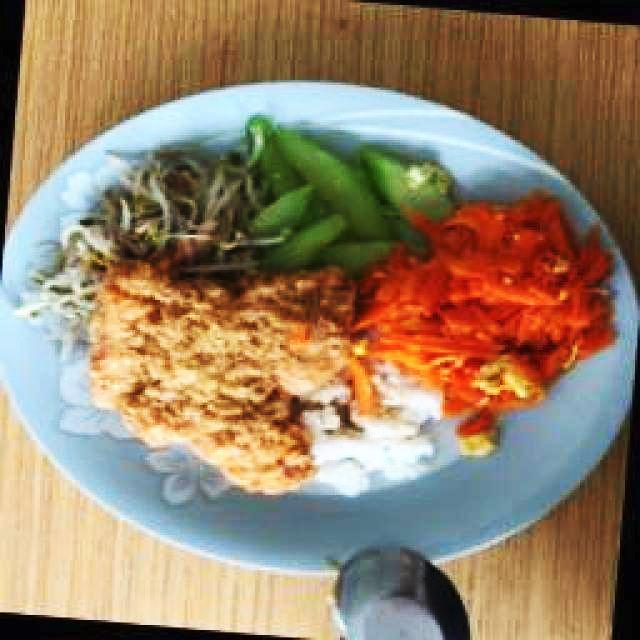carrot_eggs: (353, 194, 614, 451)
fried_chicken: (86, 250, 360, 493)
mung_bean_sprouts: (69, 162, 232, 263)
rice: (312, 402, 437, 494)
